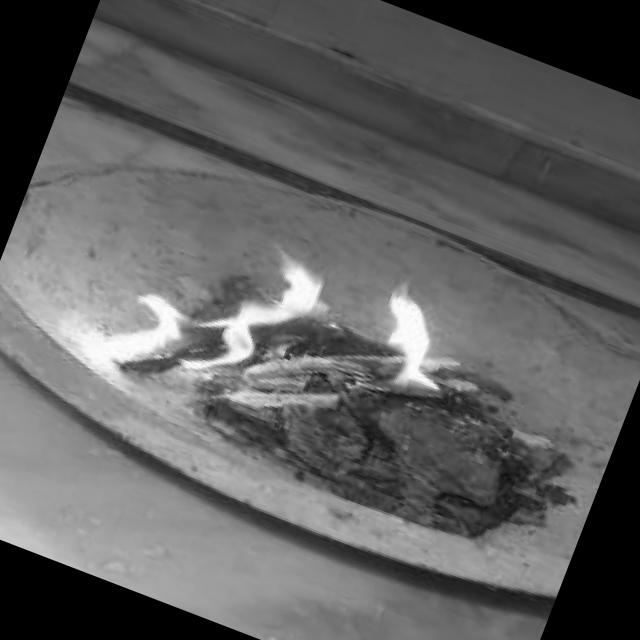fire: (88, 192, 339, 426), (374, 283, 438, 416)
